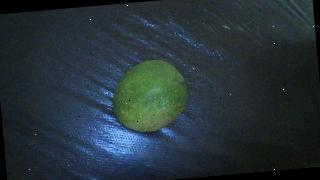DESECHO: (110, 57, 191, 134)
